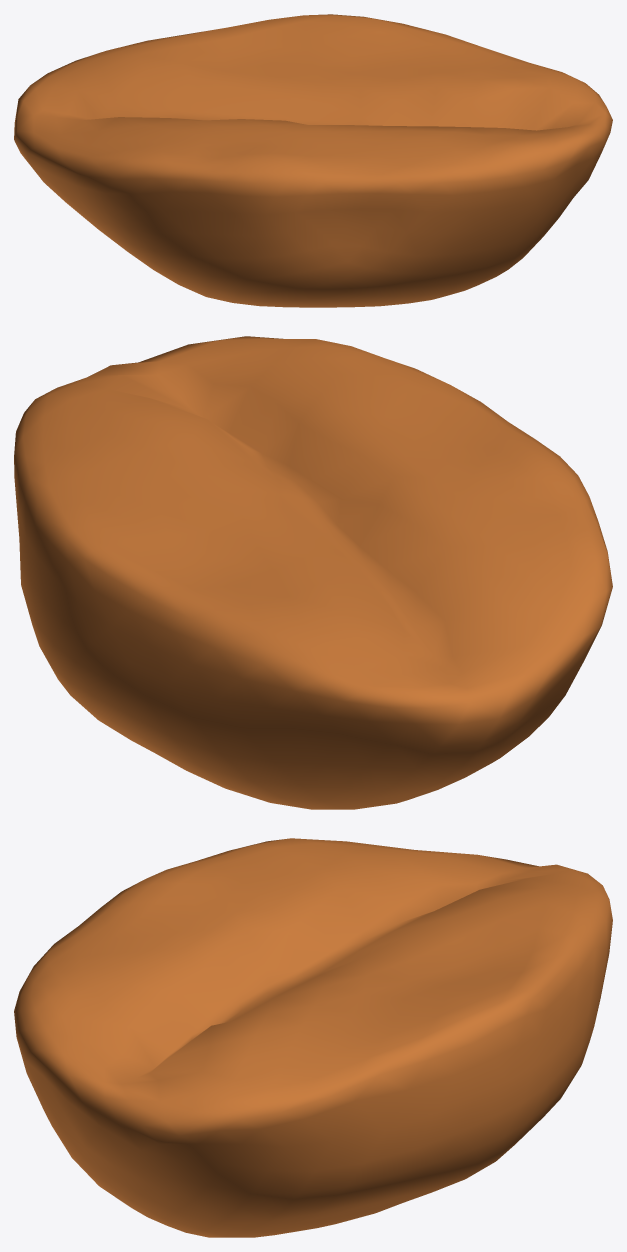
Rendered from Mani.fbx.
3 views of the same model, one above another, from view 1: azimuth 30°, elevation 25°; view 2: azimuth 150°, elevation 25°; view 3: azimuth 270°, elevation 25° (orthographic). The views are drawn at different scales.
Parts seen in each view (by area): view 1: polySurface187; view 2: polySurface187; view 3: polySurface187.
Boxes of the visible parts, <box> form: polySurface187: <box>14,14,612,307</box>; polySurface187: <box>14,336,612,809</box>; polySurface187: <box>14,838,612,1237</box>.
Size of the model in its own units: 1.29 by 0.5446 by 1.15.
